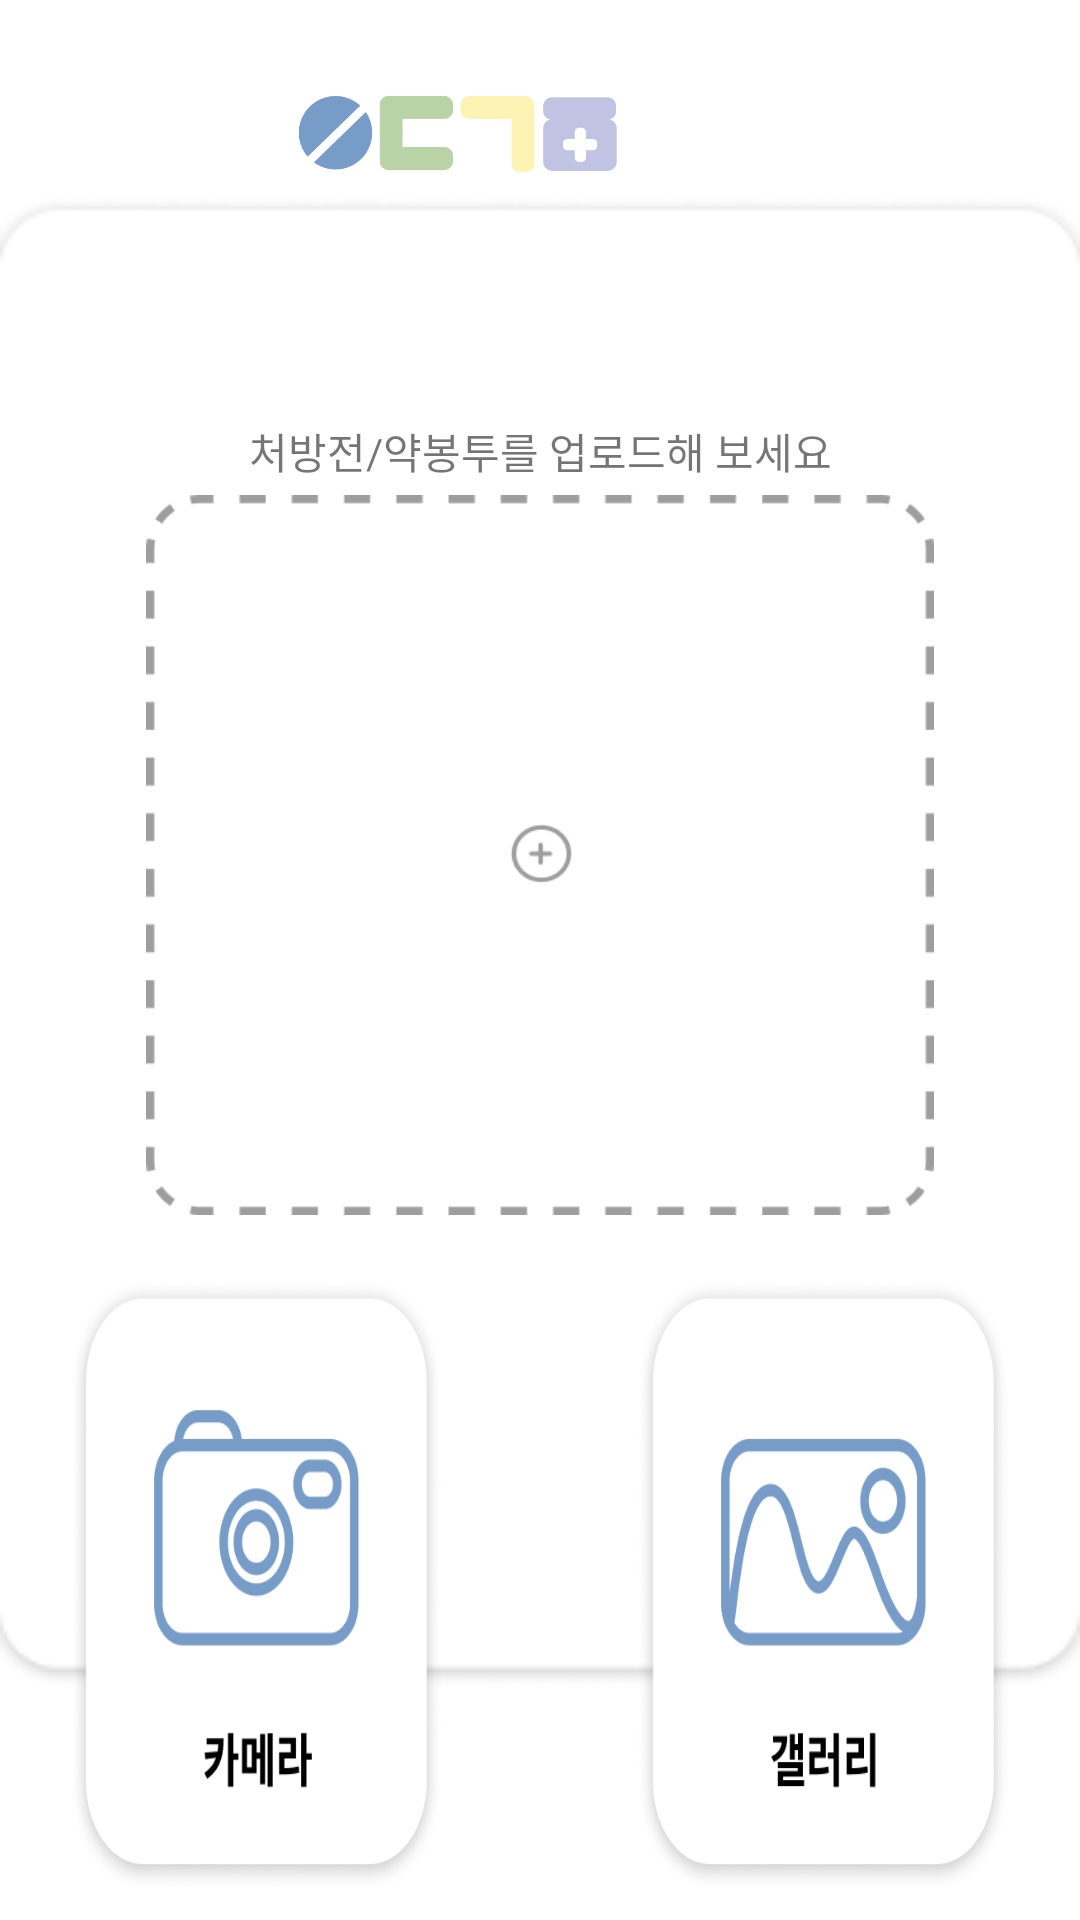

Locate icon controls on the screen. Image size 1080px×1920px, boxes as (x1, y1, x2, y2).
title: (299, 96, 617, 172)
